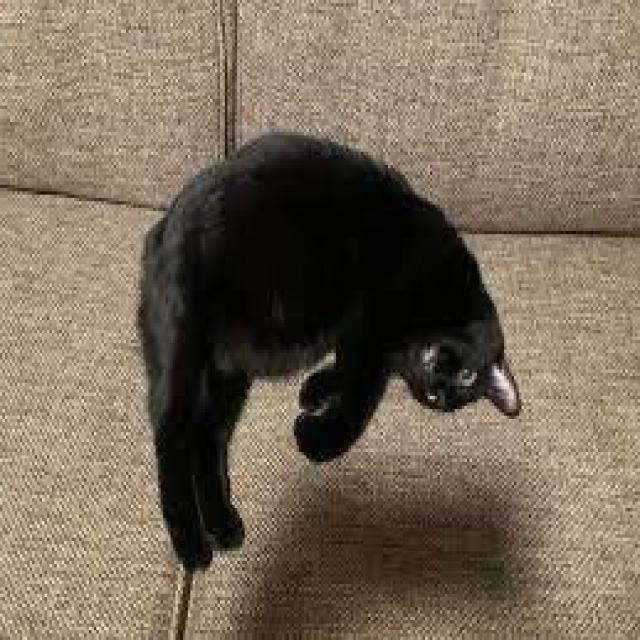black cat: (92, 85, 567, 592)
